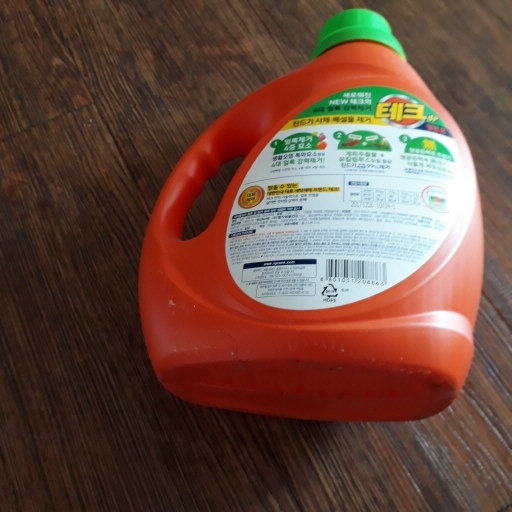Plastic_1: (137, 3, 487, 424)
